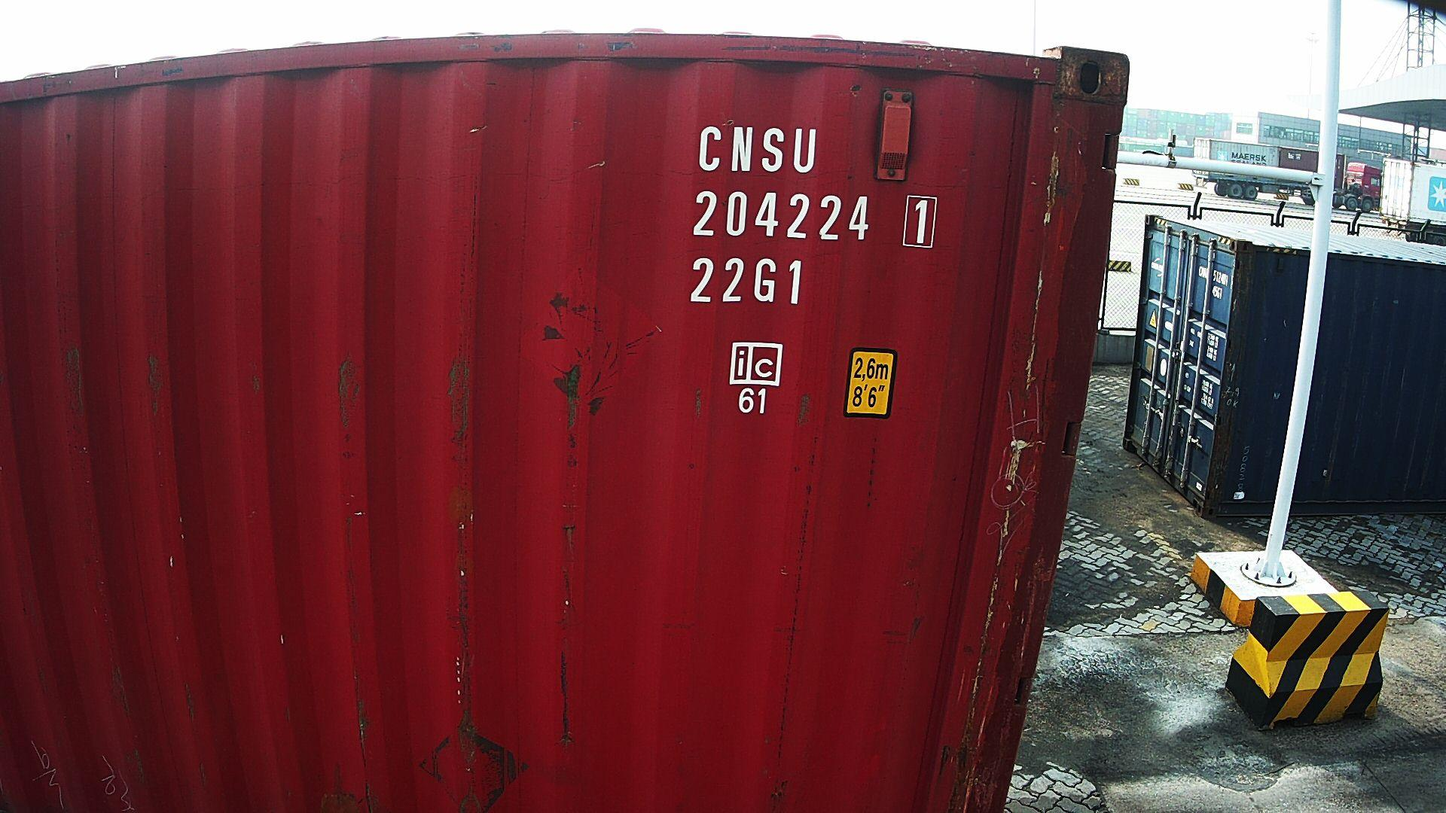container-numbers: (689, 188, 943, 251), (694, 122, 821, 178), (685, 254, 808, 309)
